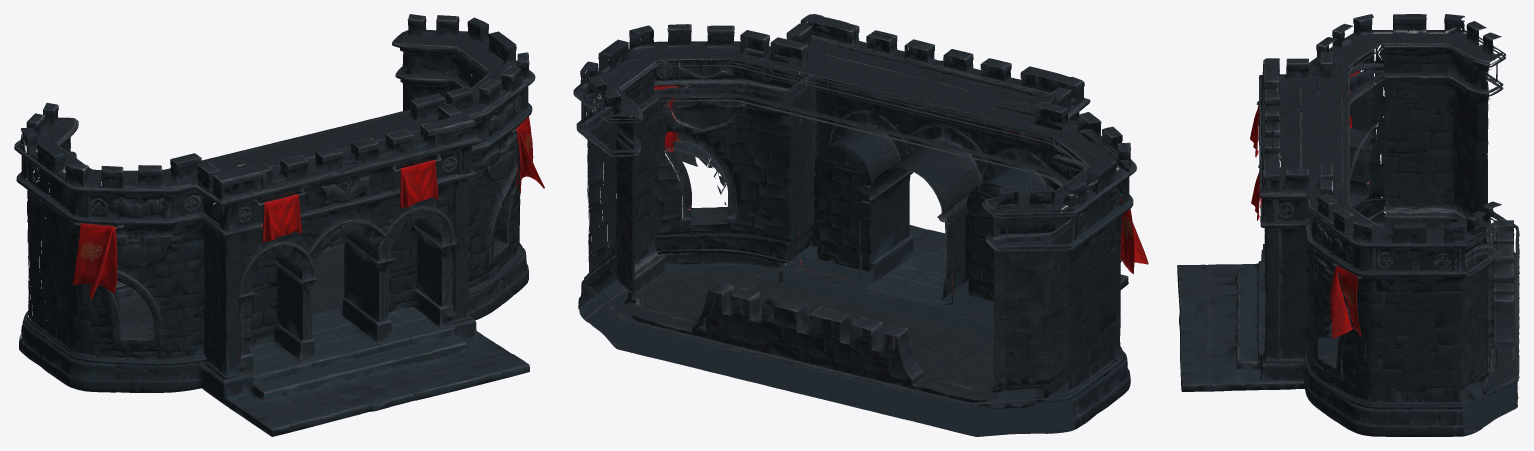
File: volcano_bay.glb
The picture shows the model from 3 angles, left to right: view 1: azimuth 30°, elevation 25°; view 2: azimuth 150°, elevation 25°; view 3: azimuth 270°, elevation 25°; orthographic projection. The views are drawn at different scales.
Bounding box in the file's own units: 1.9 × 0.8733 × 1.28.
1 material, 1 textured.
